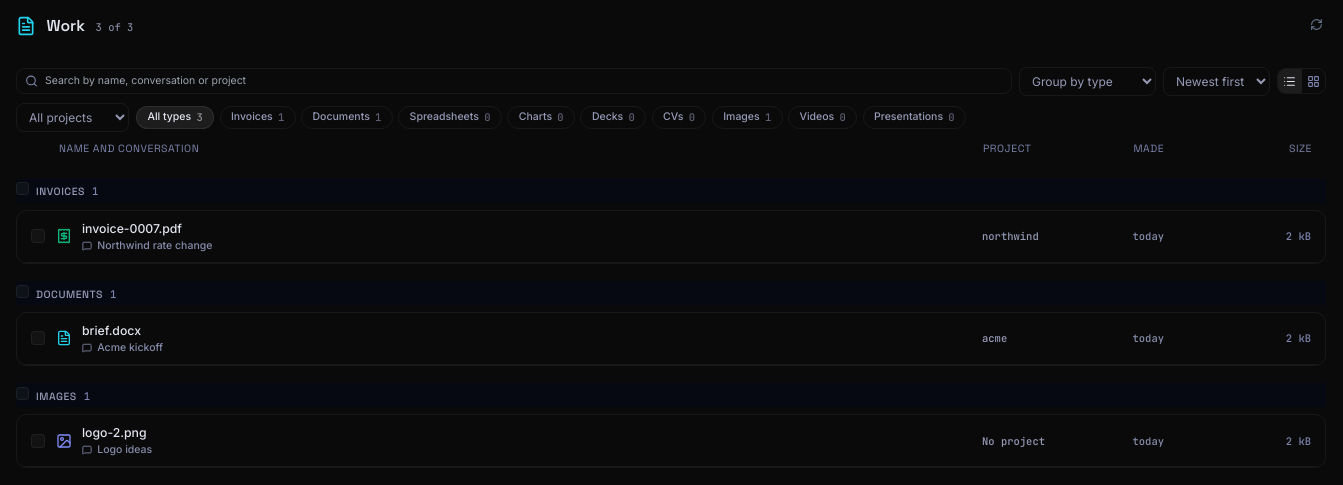
files are categorised › regroups by project without touching what is shown
Expected: the heading "Invoices 1" is shown, [16, 179, 1326, 203]
Select "Group by project" in the dropdown named "Group by" at (1088, 81), box [1019, 66, 1156, 96]
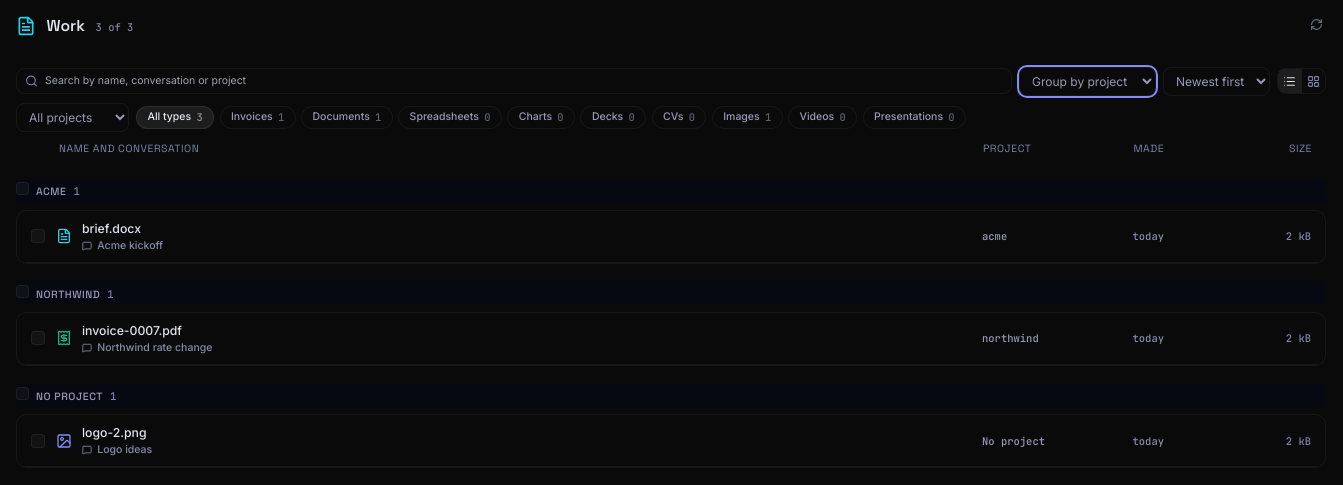
Expected: the heading "acme 1" is shown, [16, 179, 1326, 203]
Expected: the heading "northwind 1" is shown, [16, 281, 1326, 305]
Expected: the text "invoice-0007.pdf" is shown, [82, 323, 182, 338]
